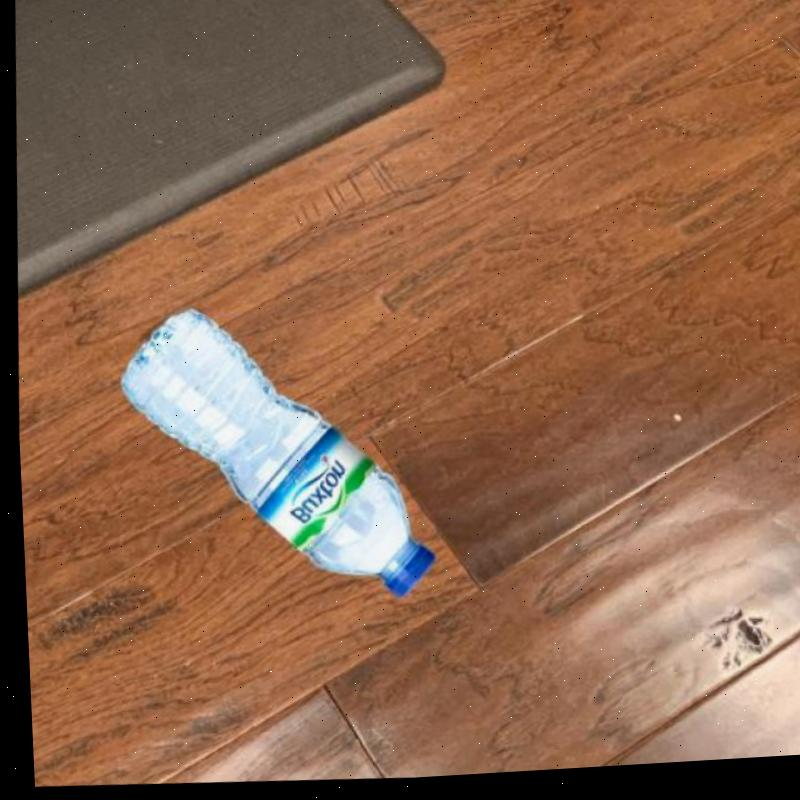botella: (106, 293, 445, 618)
